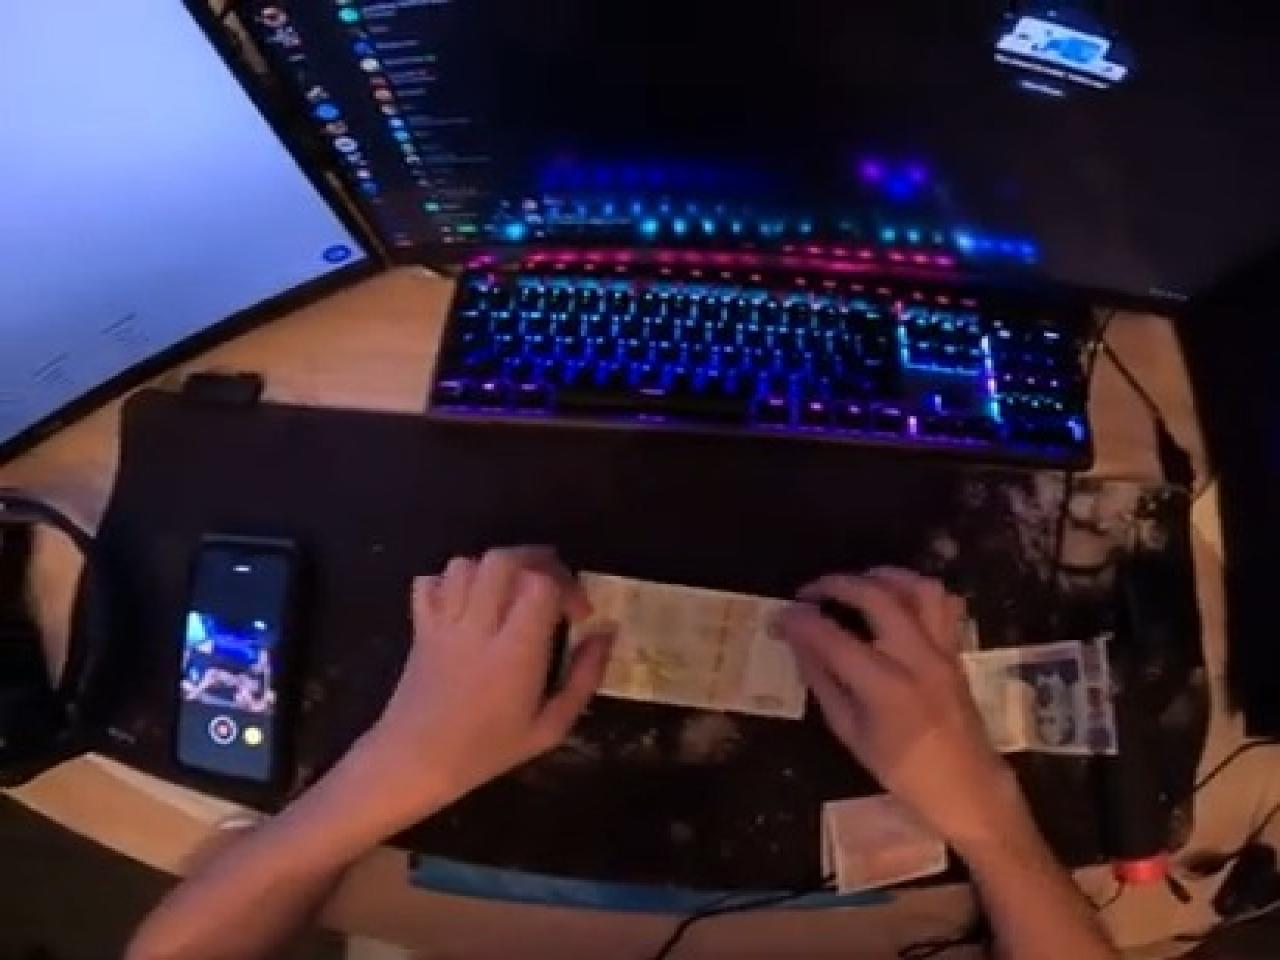50leva: (578, 574, 807, 725)
